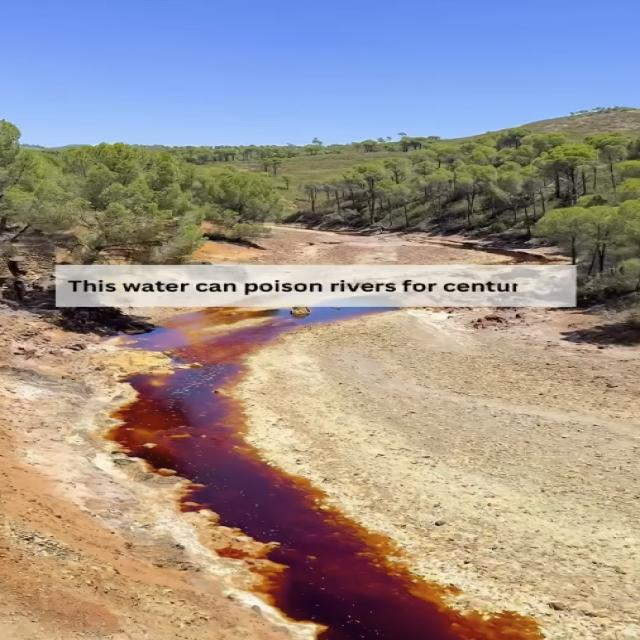yellow_boy: (111, 307, 540, 639)
